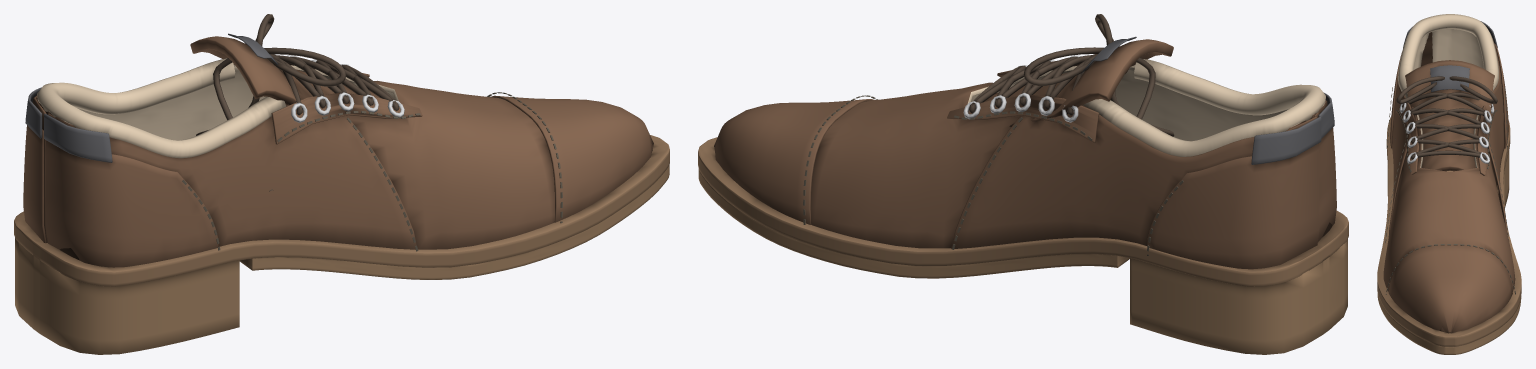
Rendered from derby-captoe-lo.glb.
The picture shows the model from 3 angles, left to right: view 1: azimuth 30°, elevation 25°; view 2: azimuth 150°, elevation 25°; view 3: azimuth 270°, elevation 25°; orthographic projection. The views are drawn at different scales.
Visible parts, largest first — view 1: upper, quarterL, heelblock, heelL, welt, toe, collar, outsole, laces, tongue, eyestayL, heelM (+3 smaller); view 2: upper, quarterM, heelM, heelblock, welt, toe, collar, outsole, laces, tongue, eyestayM, tabM (+2 smaller); view 3: upper, toe, tongue, welt, laces, collar, quarterL, quarterM, outsole, label, stitches, eyestayL (+4 smaller).
Boxes of the visible parts, x1=… form: upper: x1=37, y1=64, x2=652, y2=260; quarterL: x1=48, y1=104, x2=416, y2=249; heelblock: x1=15, y1=237, x2=239, y2=354; heelL: x1=45, y1=140, x2=218, y2=267; welt: x1=14, y1=135, x2=669, y2=286; toe: x1=490, y1=95, x2=653, y2=222; collar: x1=37, y1=58, x2=286, y2=158; outsole: x1=239, y1=164, x2=669, y2=279; laces: x1=196, y1=14, x2=399, y2=191; tongue: x1=190, y1=36, x2=379, y2=104; eyestayL: x1=271, y1=93, x2=422, y2=144; heelM: x1=23, y1=125, x2=46, y2=243; upper: x1=811, y1=65, x2=1332, y2=248; quarterM: x1=951, y1=105, x2=1316, y2=248; heelM: x1=1147, y1=143, x2=1319, y2=269; heelblock: x1=1130, y1=239, x2=1347, y2=354; welt: x1=698, y1=137, x2=1348, y2=286; toe: x1=714, y1=99, x2=874, y2=224; collar: x1=1083, y1=59, x2=1325, y2=156; outsole: x1=698, y1=169, x2=1129, y2=278; laces: x1=969, y1=14, x2=1174, y2=136; tongue: x1=984, y1=39, x2=1173, y2=126; eyestayM: x1=947, y1=95, x2=1099, y2=142; tabM: x1=1251, y1=117, x2=1321, y2=164; upper: x1=1383, y1=29, x2=1515, y2=332; toe: x1=1388, y1=244, x2=1512, y2=333; tongue: x1=1405, y1=60, x2=1494, y2=171; welt: x1=1377, y1=116, x2=1521, y2=346; laces: x1=1395, y1=76, x2=1497, y2=159; collar: x1=1398, y1=14, x2=1498, y2=97; quarterL: x1=1388, y1=32, x2=1432, y2=236; quarterM: x1=1487, y1=38, x2=1507, y2=233; outsole: x1=1377, y1=178, x2=1521, y2=354; label: x1=1430, y1=65, x2=1469, y2=92; stitches: x1=1385, y1=87, x2=1515, y2=294; eyestayL: x1=1396, y1=95, x2=1418, y2=174.
Size of the model in its own units: 0.307 by 0.113 by 0.0924.
